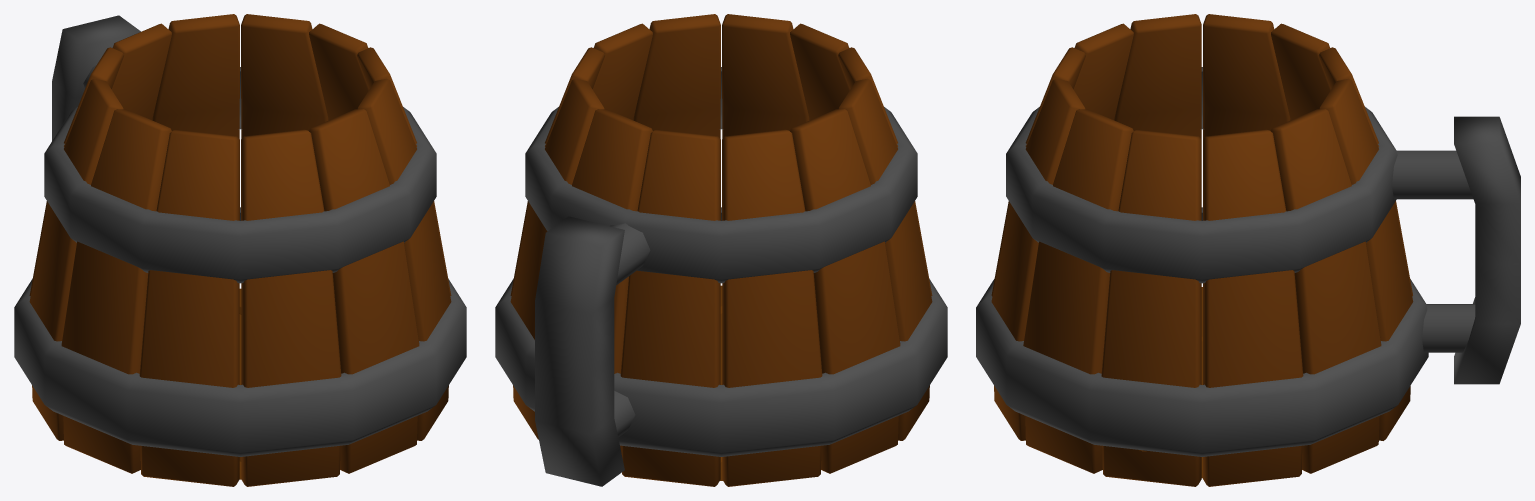
The model's file is Tankard.fbx.
The picture shows the model from 3 angles, left to right: view 1: azimuth 30°, elevation 25°; view 2: azimuth 150°, elevation 25°; view 3: azimuth 270°, elevation 25°; orthographic projection.
Parts seen in each view (by area): view 1: Cylinder, Metal, Handles; view 2: Cylinder, Metal, Handles; view 3: Cylinder, Metal, Handles.
Part boxes in pixels (x1,y1,x2,y2): Cylinder: (29,14,451,486); Metal: (14,67,466,456); Handles: (52,15,140,140); Cylinder: (510,14,932,486); Metal: (495,67,947,456); Handles: (535,216,650,486); Cylinder: (991,14,1413,486); Metal: (976,67,1428,456); Handles: (1392,116,1520,384).
Bounding box in the file's own units: 341 × 270 × 411.
